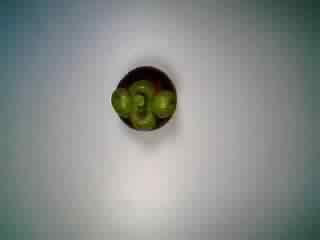mangosteen: (106, 62, 183, 145)
